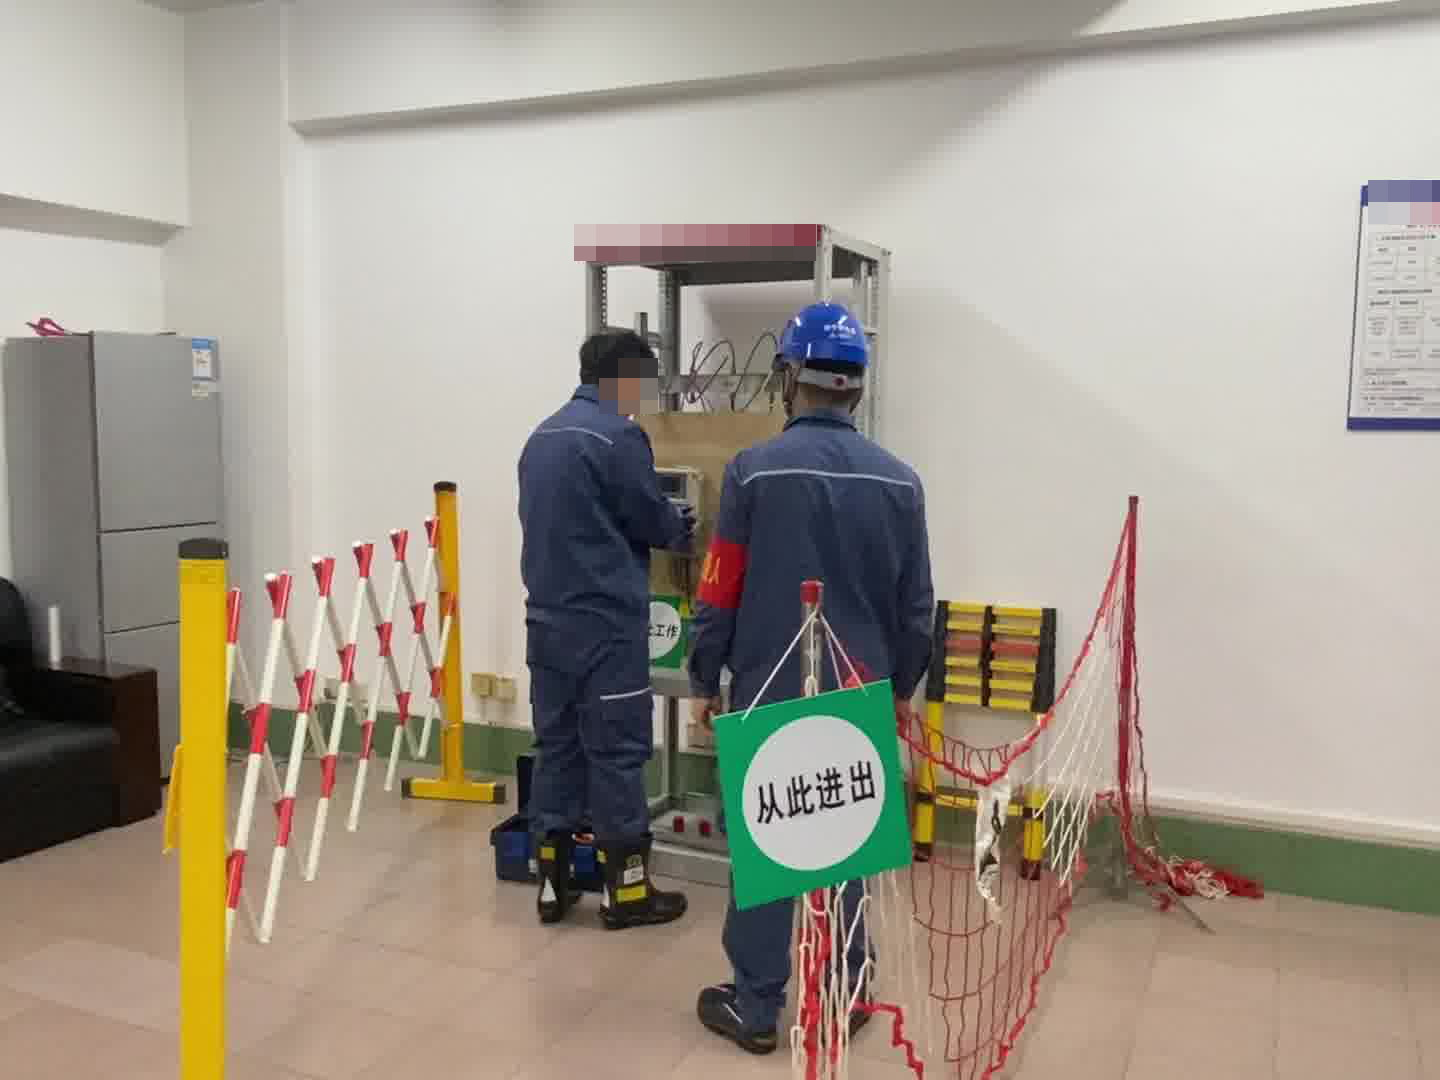badge: (697, 535, 751, 613)
downsuit: (515, 626, 657, 872)
halt: (774, 299, 875, 411)
hand: (690, 695, 726, 736)
inear: (777, 362, 802, 407)
intosign: (703, 679, 927, 917)
noear: (620, 370, 645, 399)
person: (688, 296, 946, 1048), (688, 297, 946, 734), (506, 329, 684, 926)
shoe: (593, 840, 685, 922), (528, 828, 590, 925)
unhalt: (582, 332, 661, 414)
upsuit: (690, 414, 943, 697), (517, 393, 672, 612)
worksign: (643, 592, 688, 671)
